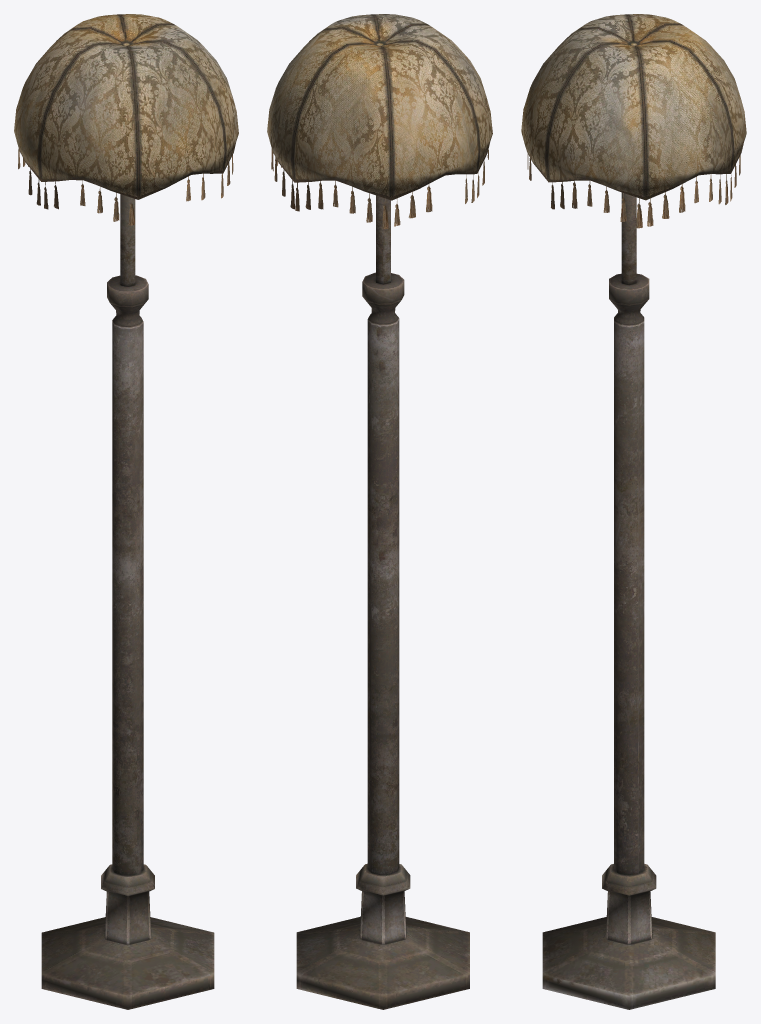
File: floorLamp.FBX
3 views of the same model, side by side, from view 1: azimuth 30°, elevation 25°; view 2: azimuth 150°, elevation 25°; view 3: azimuth 270°, elevation 25° (orthographic).
Visible parts, largest first — view 1: FloorLamp01:0; view 2: FloorLamp01:0; view 3: FloorLamp01:0.
Boxes of the visible parts, bbox=[...] form: FloorLamp01:0: bbox=[14, 14, 238, 1009]; FloorLamp01:0: bbox=[267, 14, 492, 1009]; FloorLamp01:0: bbox=[521, 14, 746, 1009].
Size of the model in its own units: 26.19 by 122 by 26.73.
